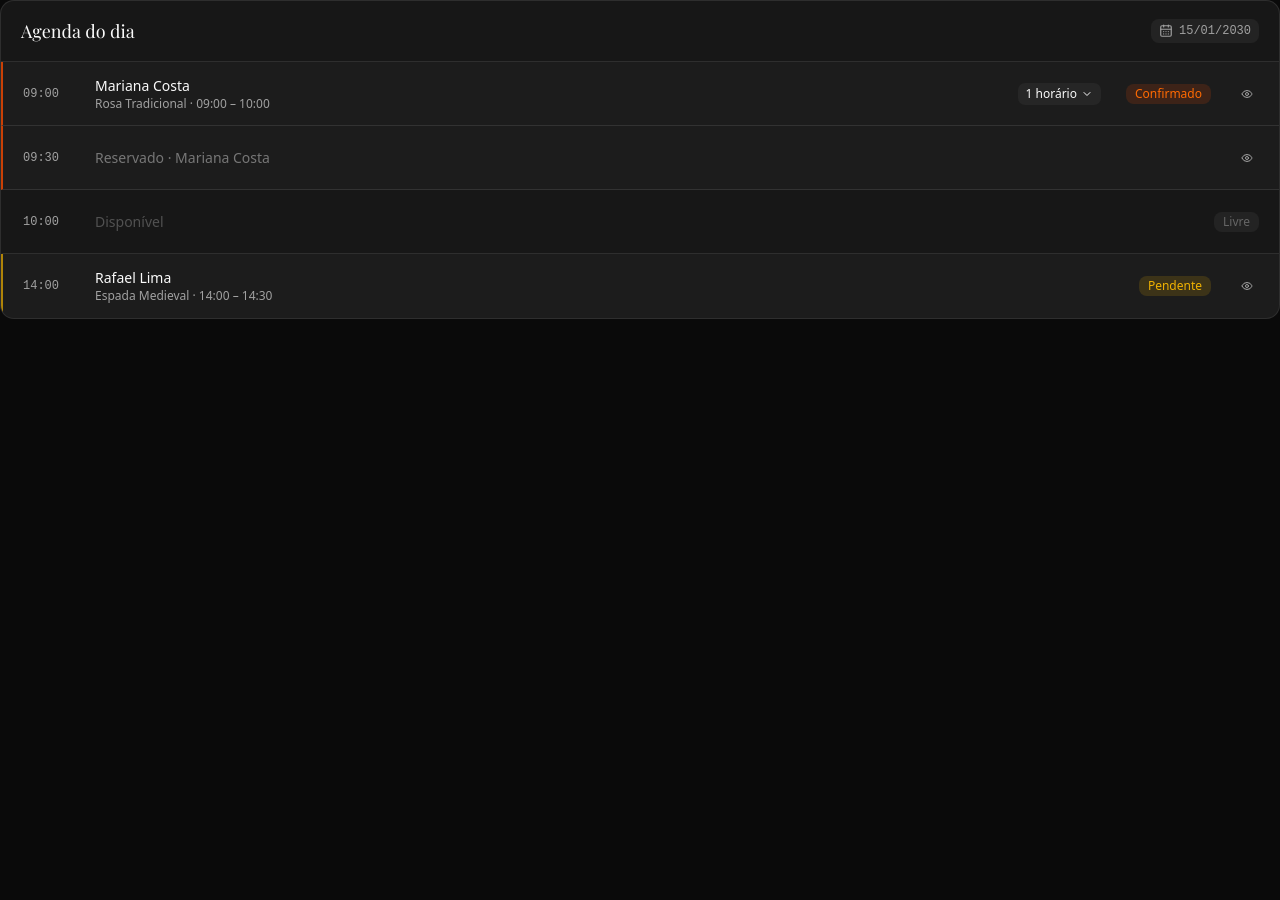
Test: DayAgendaList › opens the details from a reserved slot too
Click the button named "Ver agendamento de Mariana Costa (horário 09:30)" at coordinates (1247, 158), box top-left (1235, 146), bottom-right (1259, 170)
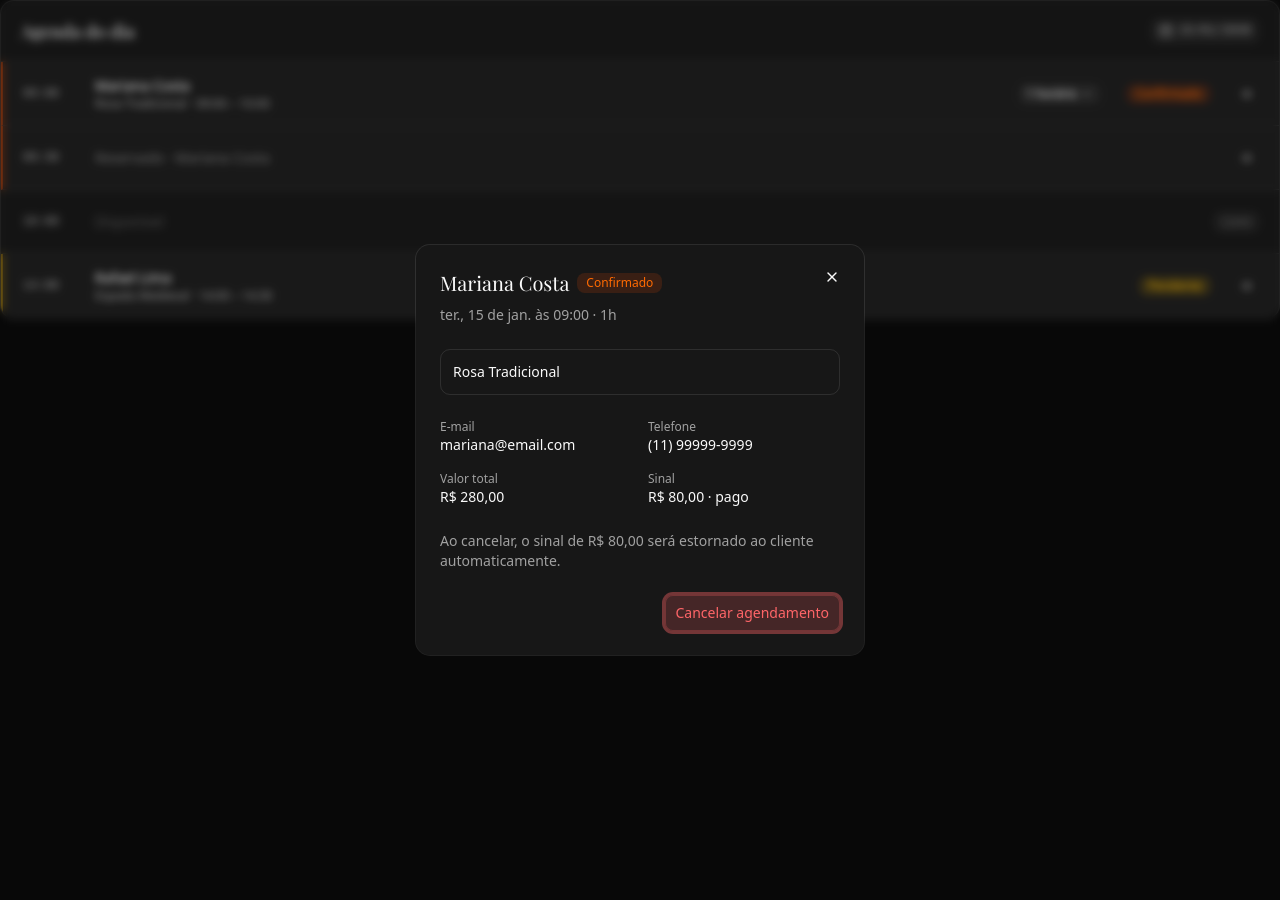
Check: the dialog is shown, box top-left (416, 245), bottom-right (864, 655)
